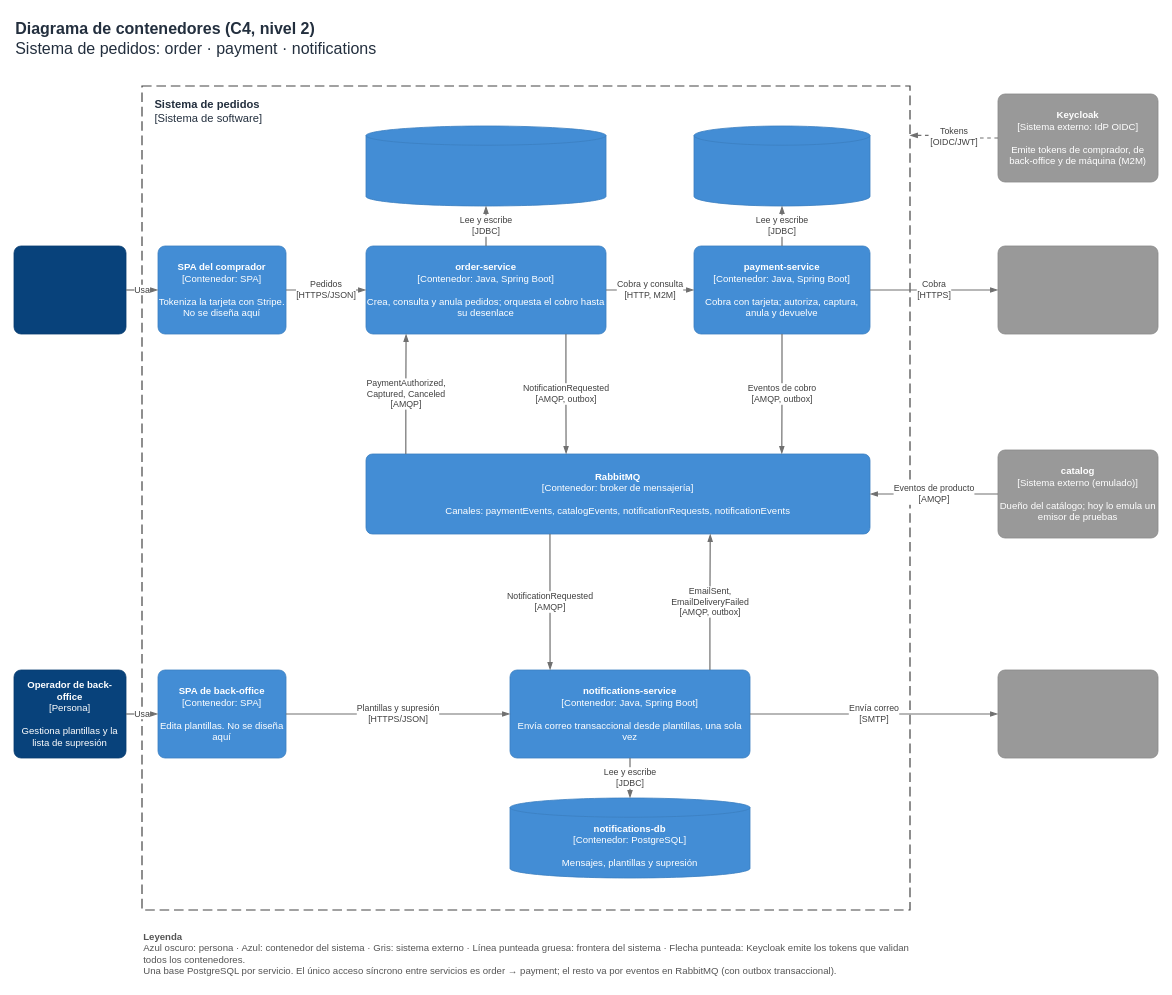
Some shapes in this 1172 by 995 pixel diagram are drawn without their labels. The shapes that lost their labels are listed below. From the top down, each one's centre as x and y in pixels, then its label:
At (485,165): "order-db [Contenedor: PostgreSQL] Pedidos y réplica del catálogo".
At (781,165): "payment-db [Contenedor: PostgreSQL] Cobros y medios de pago".
At (69,289): "Comprador [Persona] Hace pedidos y paga con tarjeta".
At (1077,289): "Stripe [Sistema externo: pasarela de pago] Autoriza y captura cobros con tarjeta".
At (1077,713): "Relay SMTP [Sistema externo: correo] Entrega los correos al comprador".
